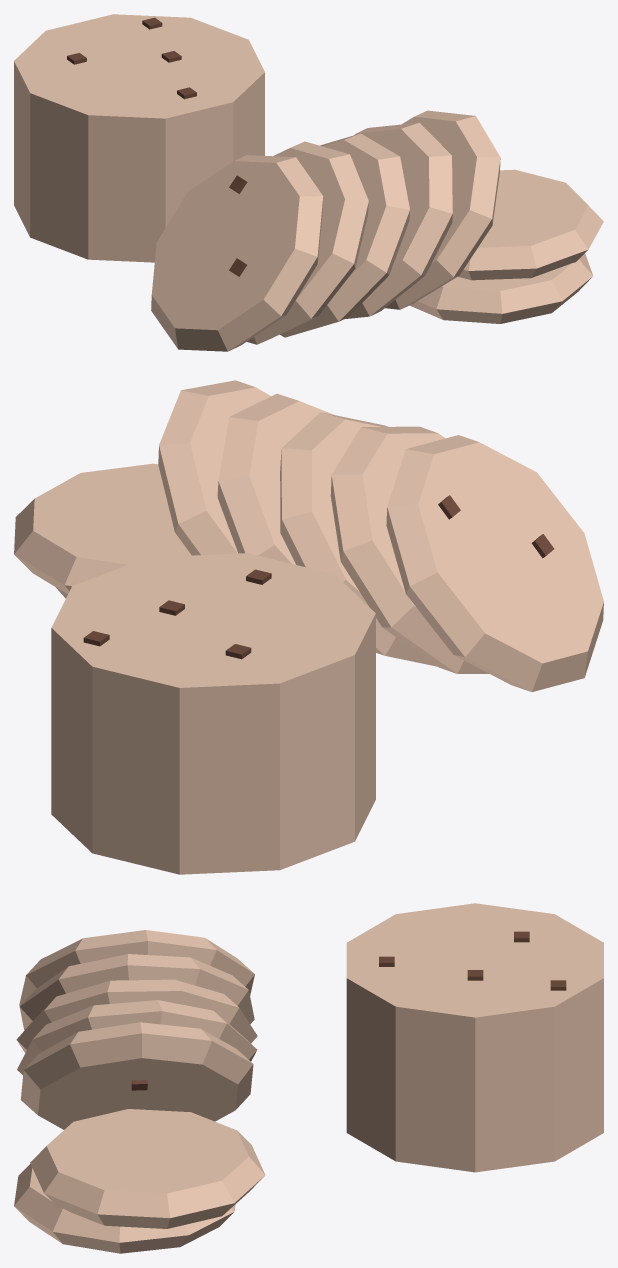
File: SM_Cook_Topping_Cha_01.fbx
3 renders of one model, top to bottom at view 1: azimuth 30°, elevation 25°; view 2: azimuth 150°, elevation 25°; view 3: azimuth 270°, elevation 25°, orthographic. The views are drawn at different scales.
Parts seen in each view (by area): view 1: SM_Cook_Topping_Cha_01; view 2: SM_Cook_Topping_Cha_01; view 3: SM_Cook_Topping_Cha_01.
Boxes of the visible parts, x1,y1,x2,y2 form: SM_Cook_Topping_Cha_01: (14,14,603,351); SM_Cook_Topping_Cha_01: (14,380,603,874); SM_Cook_Topping_Cha_01: (14,903,603,1253).
Bounding box in the file's own units: 0.1469 × 0.0548 × 0.1657.
Materials: 1 (1 with a texture image).
